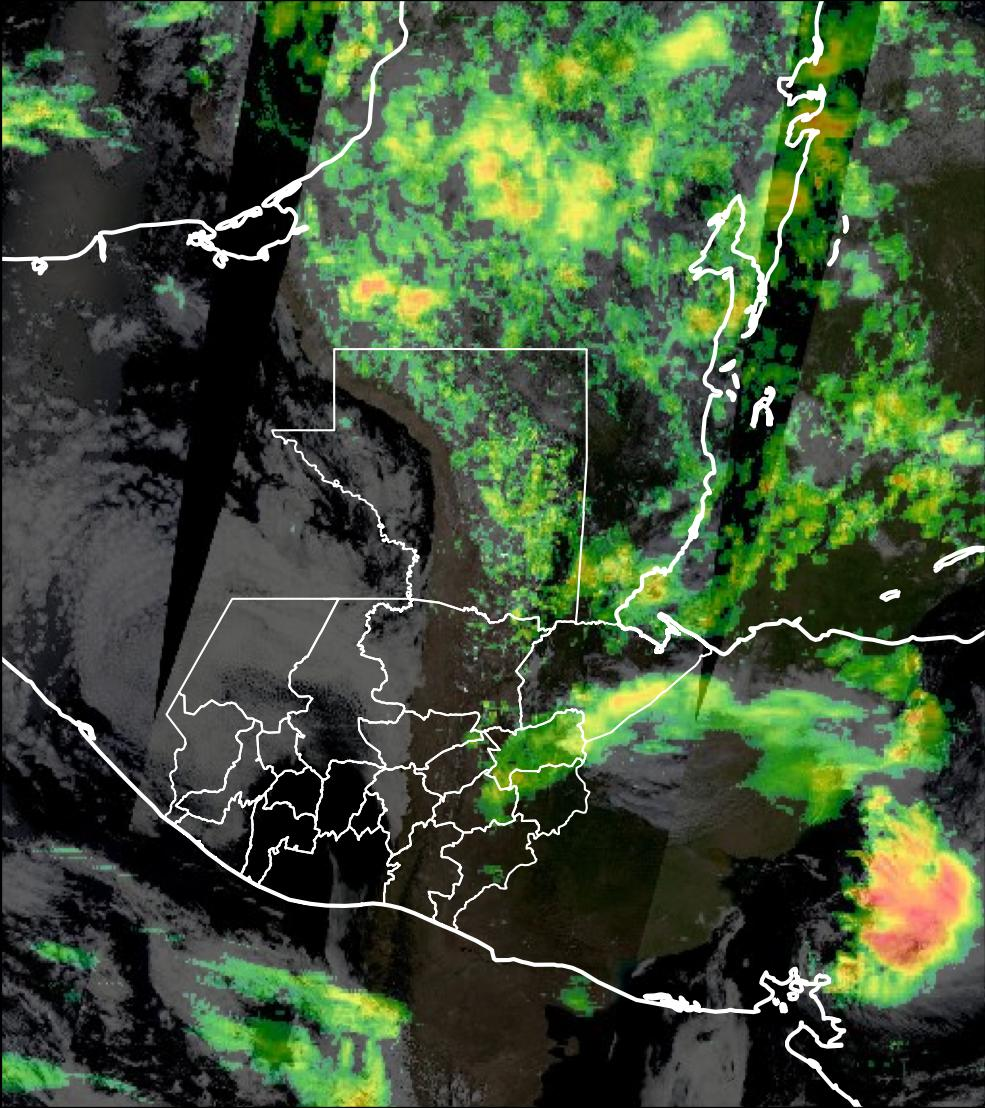precipitacion: (854, 819, 973, 981)
